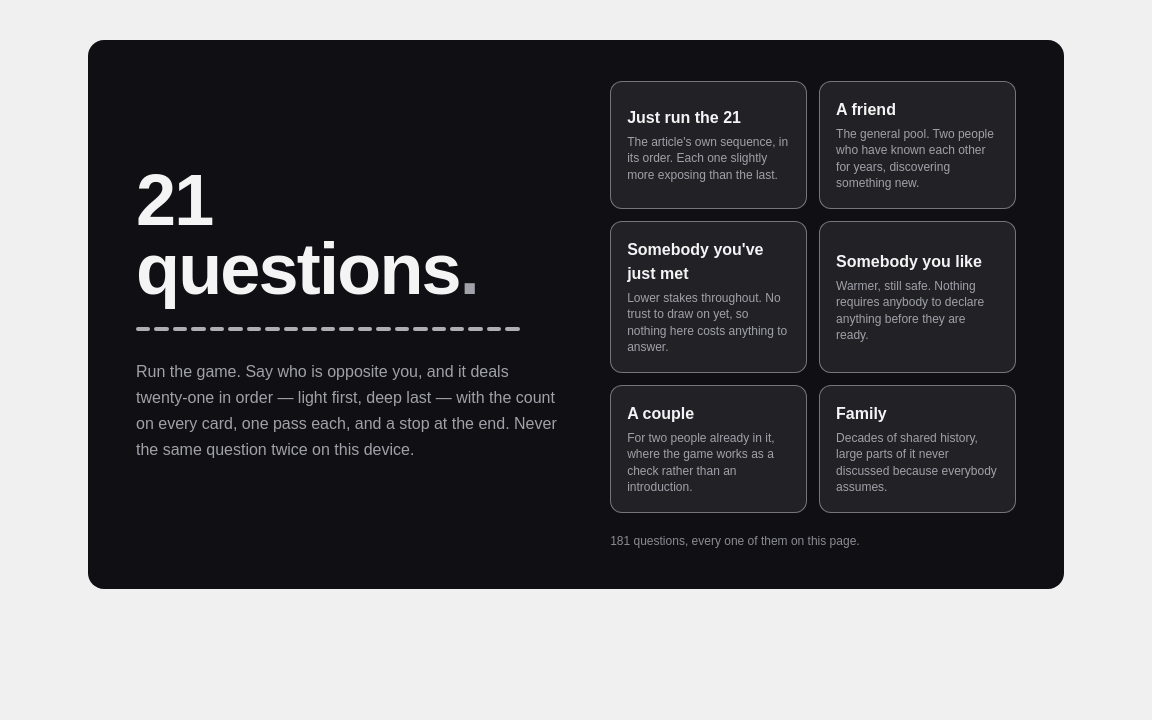
Test: TwentyOneQuestions › gives one pass each, replaces the question, and spends it visibly
Click the button "A friend" at [918, 144], box x1=819 y1=80 x2=1016 y2=208
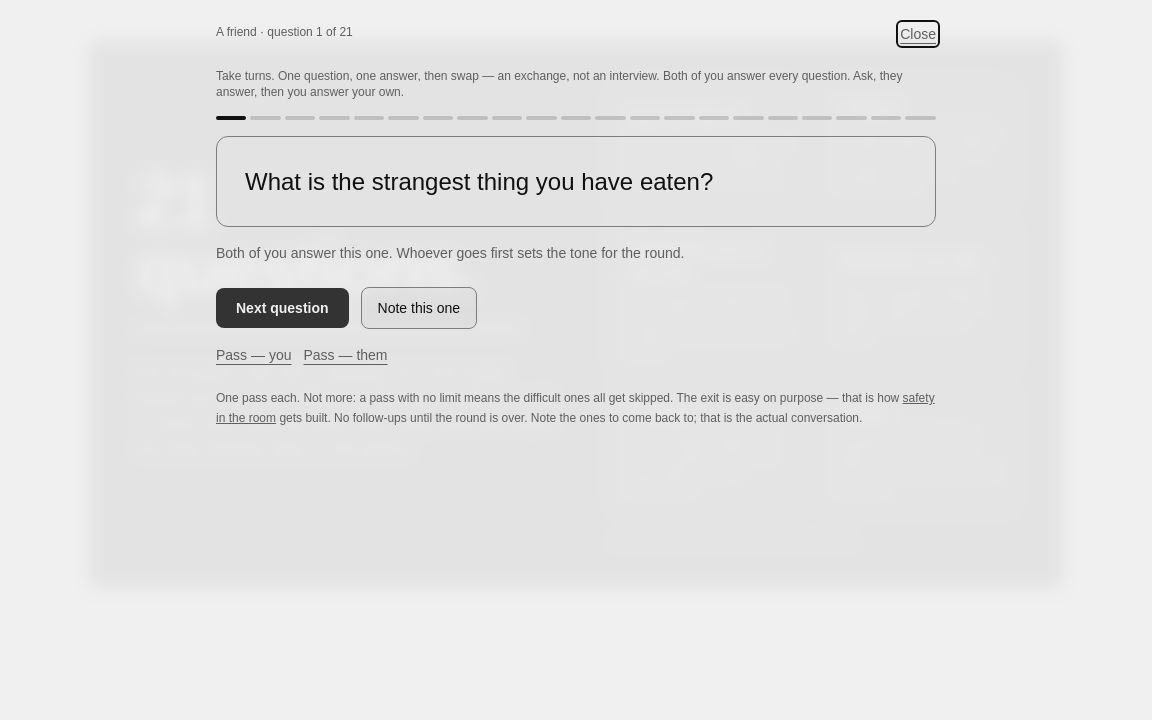
Check: the button "Pass — you" is enabled
Click the button "Pass — you" at [254, 355], box x1=216 y1=345 x2=292 y2=365
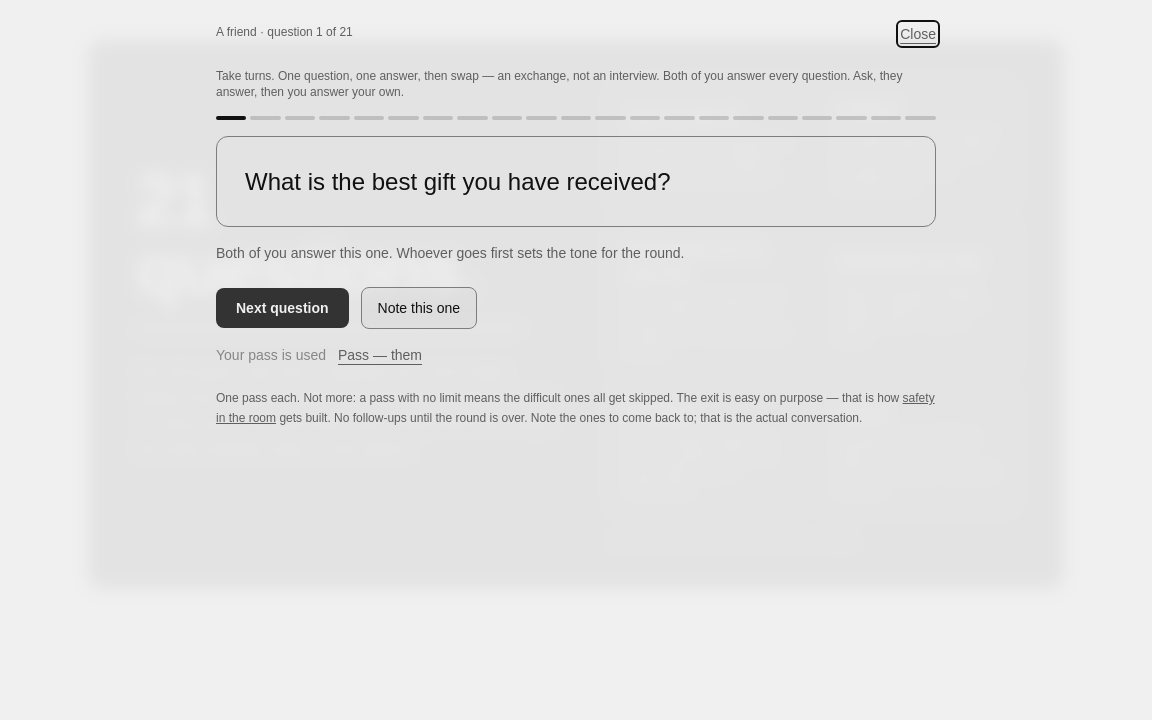
Check: the button "Pass — them" is enabled, box x1=338 y1=345 x2=422 y2=365
Check: the text "What is the strangest thing you have eaten?" is gone
Check: the button "Your pass is used" is disabled, box x1=216 y1=345 x2=326 y2=365
